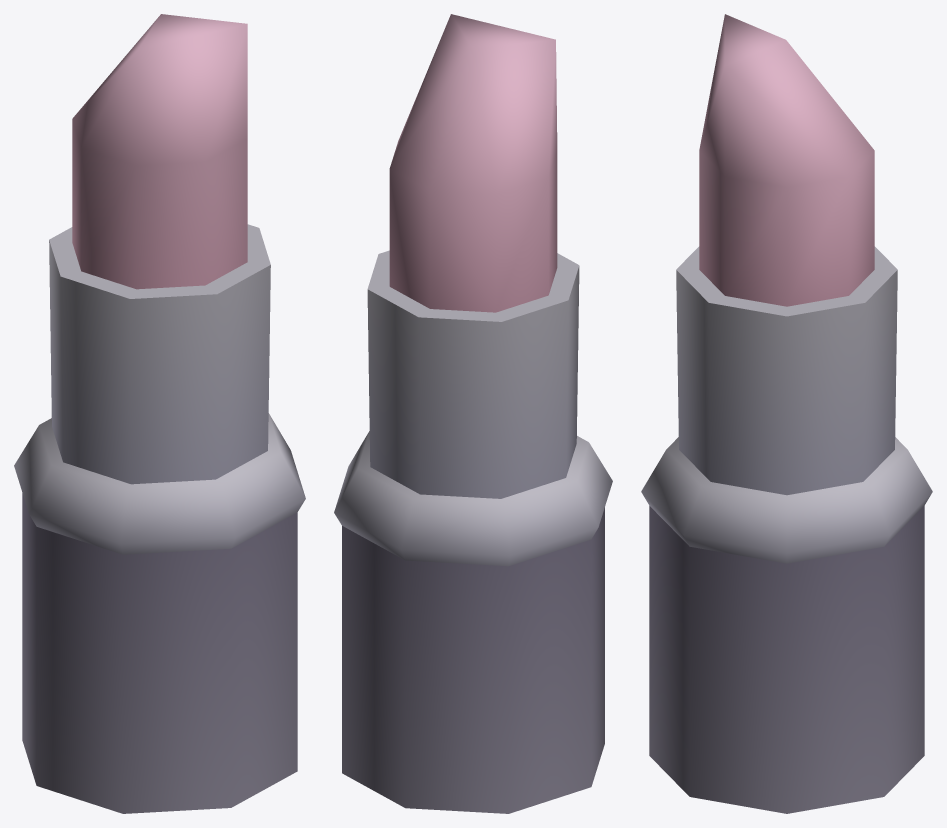
File: makeup-lipstick.glb
The picture shows the model from 3 angles, left to right: view 1: azimuth 30°, elevation 25°; view 2: azimuth 150°, elevation 25°; view 3: azimuth 270°, elevation 25°; orthographic projection. The views are drawn at different scales.
Visible parts, largest first — view 1: makeup-lipstick; view 2: makeup-lipstick; view 3: makeup-lipstick.
Part boxes in pixels (bbox=[...]): makeup-lipstick: bbox=[14, 14, 305, 813]; makeup-lipstick: bbox=[334, 14, 612, 813]; makeup-lipstick: bbox=[641, 14, 932, 813].
Bounding box in the file's own units: 0.0585 × 0.1585 × 0.0585.
